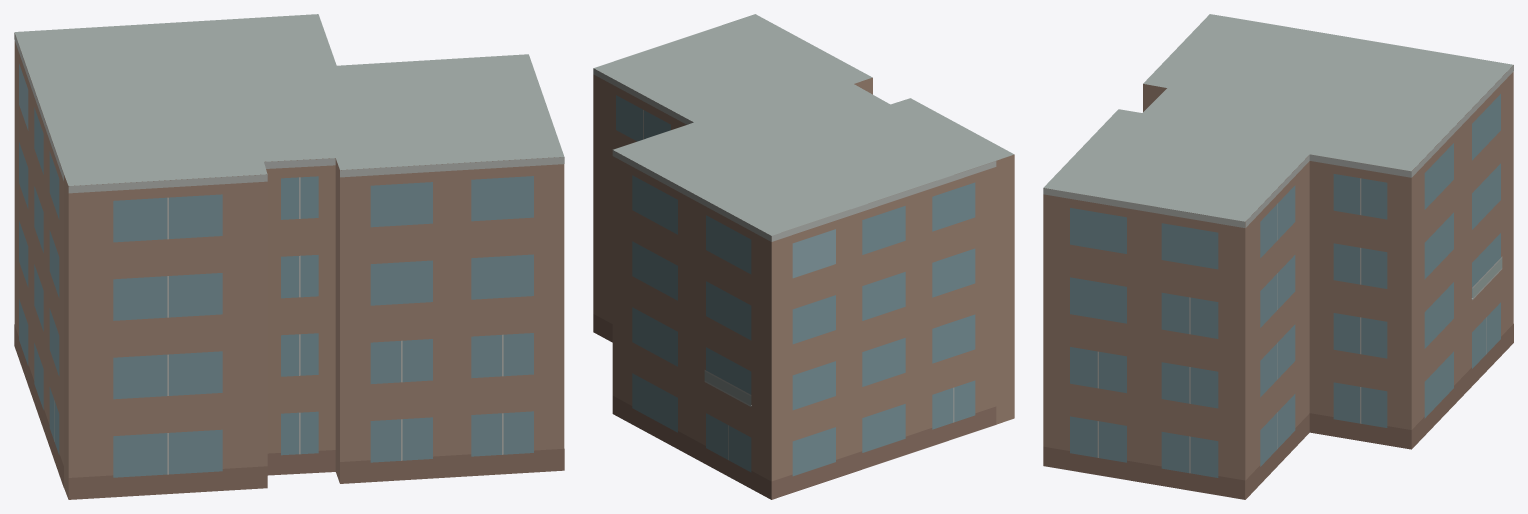
Rendered from survey-upis-32710652.glb.
The picture shows the model from 3 angles, left to right: view 1: azimuth 30°, elevation 25°; view 2: azimuth 150°, elevation 25°; view 3: azimuth 270°, elevation 25°; orthographic projection. The views are drawn at different scales.
Parts seen in each view (by area): view 1: survey-upis-32710652.tmp; view 2: survey-upis-32710652.tmp; view 3: survey-upis-32710652.tmp.
Part boxes in pixels (<box>): survey-upis-32710652.tmp: <box>14,14,564,499</box>; survey-upis-32710652.tmp: <box>593,14,1014,499</box>; survey-upis-32710652.tmp: <box>1043,14,1513,499</box>.
Bounding box in the file's own units: 16.83 × 10.5 × 16.11.
